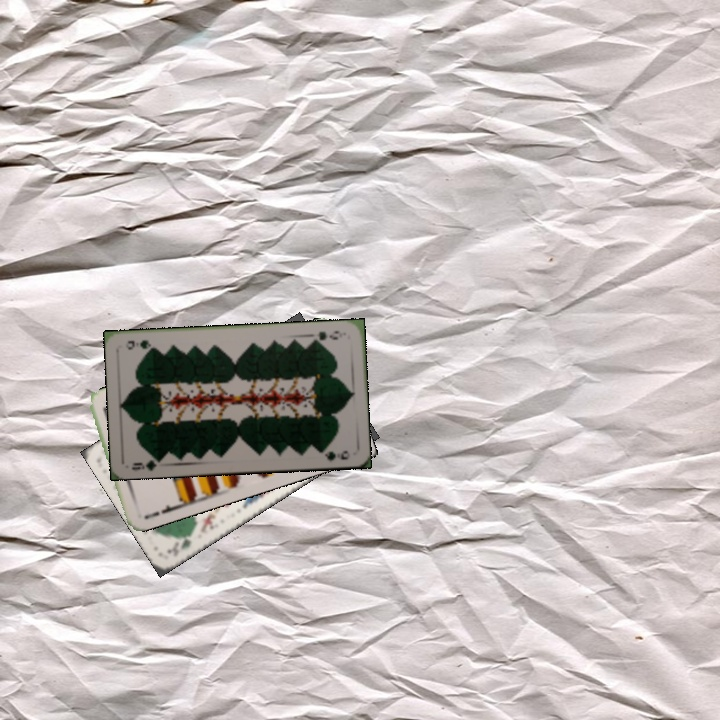E7: (140, 501, 179, 522)
G9: (128, 453, 165, 473), (308, 327, 345, 344)
GK: (163, 528, 197, 557)
